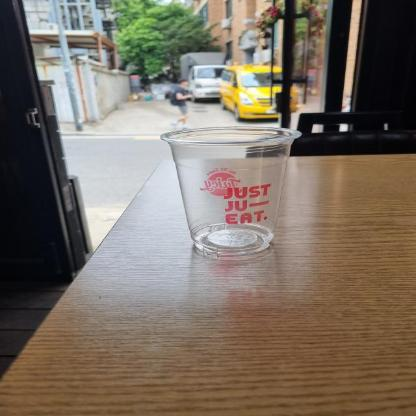Plastic Cup: (158, 125, 304, 259)
